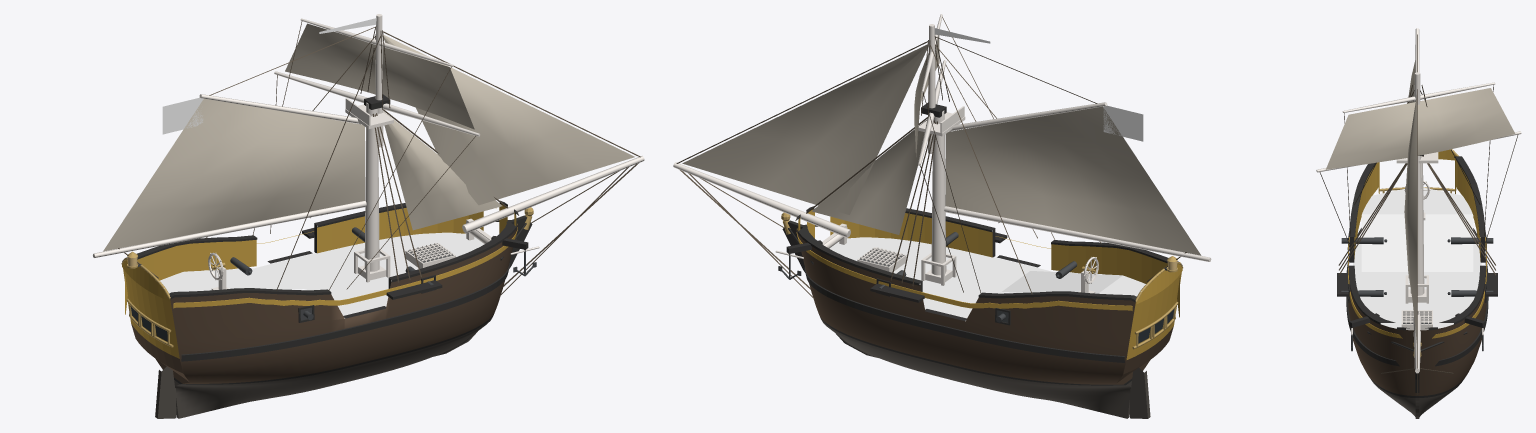
Rendered from sloop_v2_lod1.glb.
The picture shows the model from 3 angles, left to right: view 1: azimuth 30°, elevation 25°; view 2: azimuth 150°, elevation 25°; view 3: azimuth 270°, elevation 25°; orthographic projection. The views are drawn at different scales.
Parts seen in each view (by area): view 1: SM_Sloop_LOD1; view 2: SM_Sloop_LOD1; view 3: SM_Sloop_LOD1.
Boxes of the visible parts, x1,y1,x2,y2 form: SM_Sloop_LOD1: [93, 14, 644, 418]; SM_Sloop_LOD1: [673, 14, 1211, 418]; SM_Sloop_LOD1: [1316, 28, 1521, 418].
Size of the model in its own units: 24.76 by 13.3 by 7.9.
